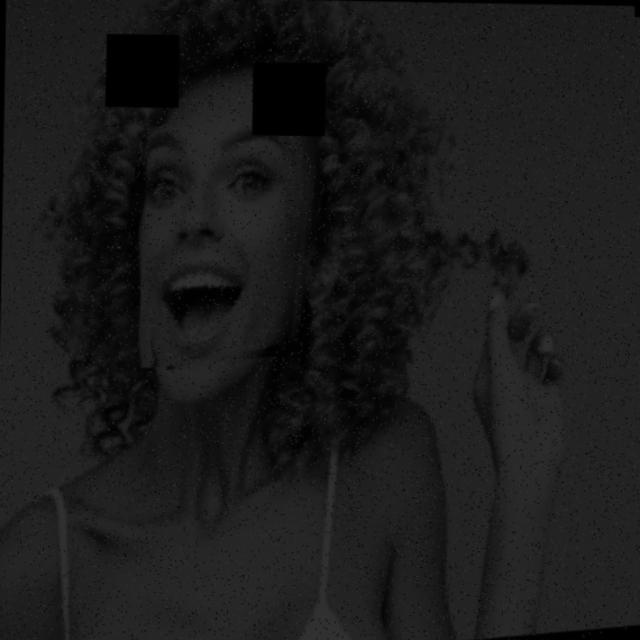Surprised: (55, 69, 369, 360)
